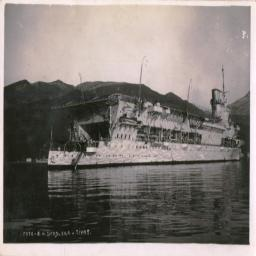Portanaves: (43, 50, 247, 174)
